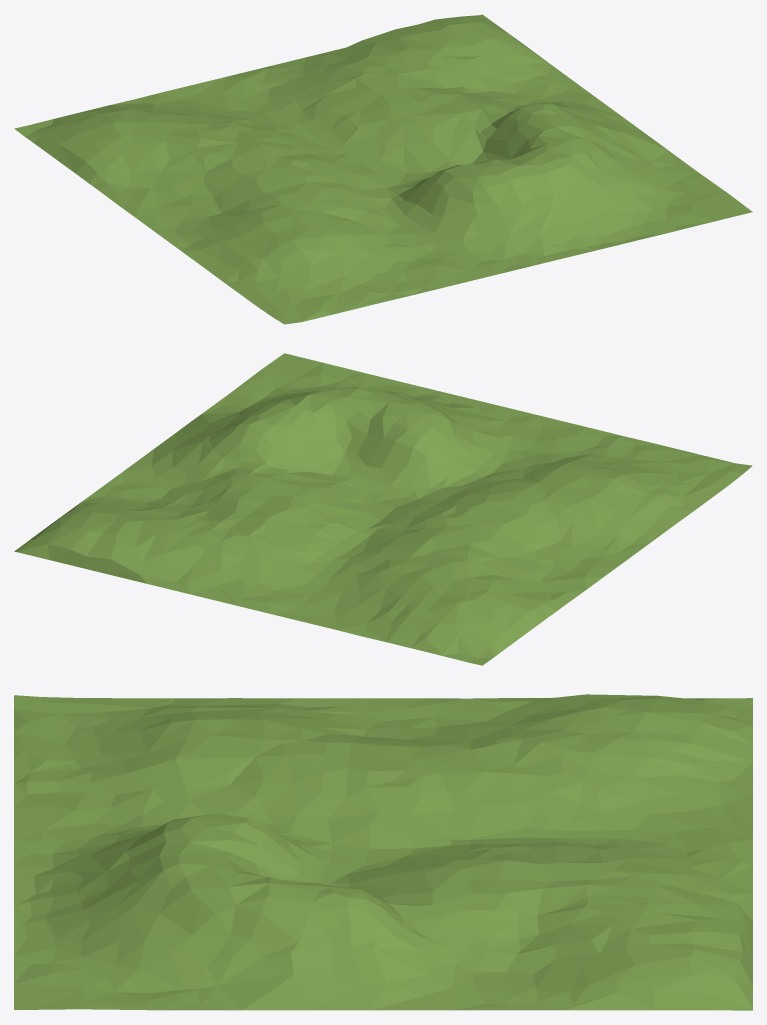
File: Terrain.glb
3 views of the same model, one above another, from view 1: azimuth 30°, elevation 25°; view 2: azimuth 150°, elevation 25°; view 3: azimuth 270°, elevation 25° (orthographic). The views are drawn at different scales.
Parts seen in each view (by area): view 1: Terrain_2; view 2: Terrain_2; view 3: Terrain_2.
Part boxes in pixels (box(x1,y1,x2,y2)): Terrain_2: box(14, 14, 752, 324); Terrain_2: box(14, 353, 752, 665); Terrain_2: box(14, 694, 752, 1010).
Bounding box in the file's own units: 20.01 × 1.76 × 20.
